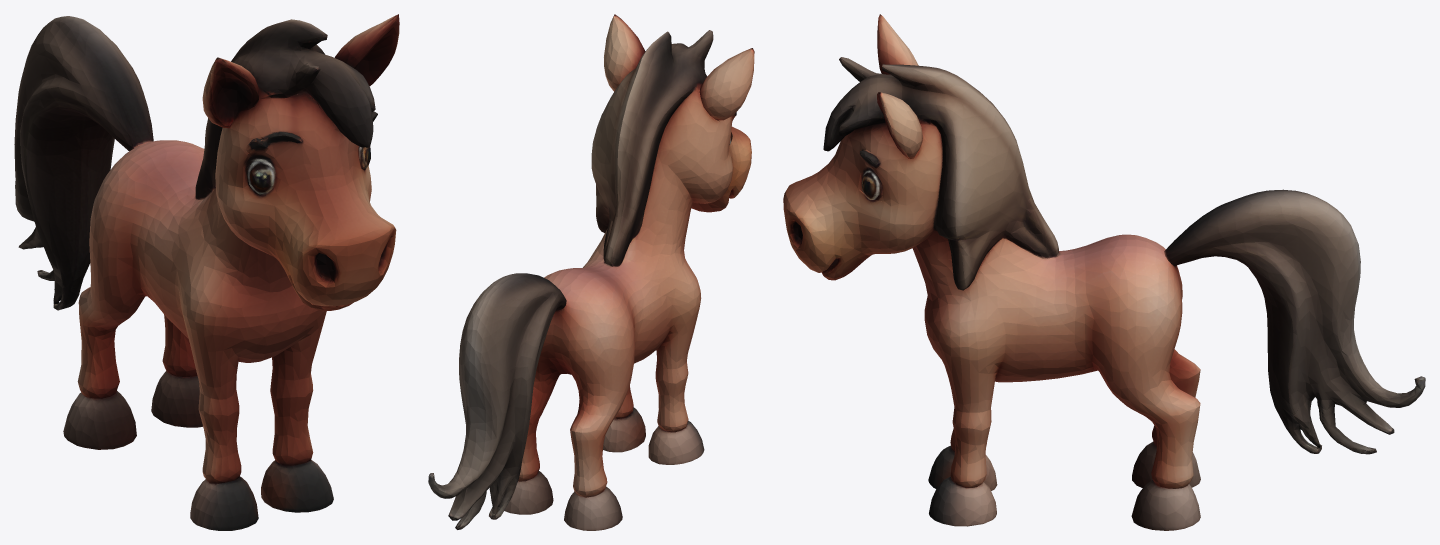
Rendered from pony.glb.
3 views of the same model, side by side, from view 1: azimuth 30°, elevation 25°; view 2: azimuth 150°, elevation 25°; view 3: azimuth 270°, elevation 25° (orthographic). The views are drawn at different scales.
Parts seen in each view (by area): view 1: world; view 2: world; view 3: world.
Boxes of the visible parts, x1=… form: world: x1=14, y1=14, x2=399, y2=530; world: x1=428, y1=14, x2=754, y2=530; world: x1=783, y1=14, x2=1425, y2=530.
Bounding box in the file's own units: 0.3021 × 0.7674 × 0.9991.
1 material, 1 textured.
